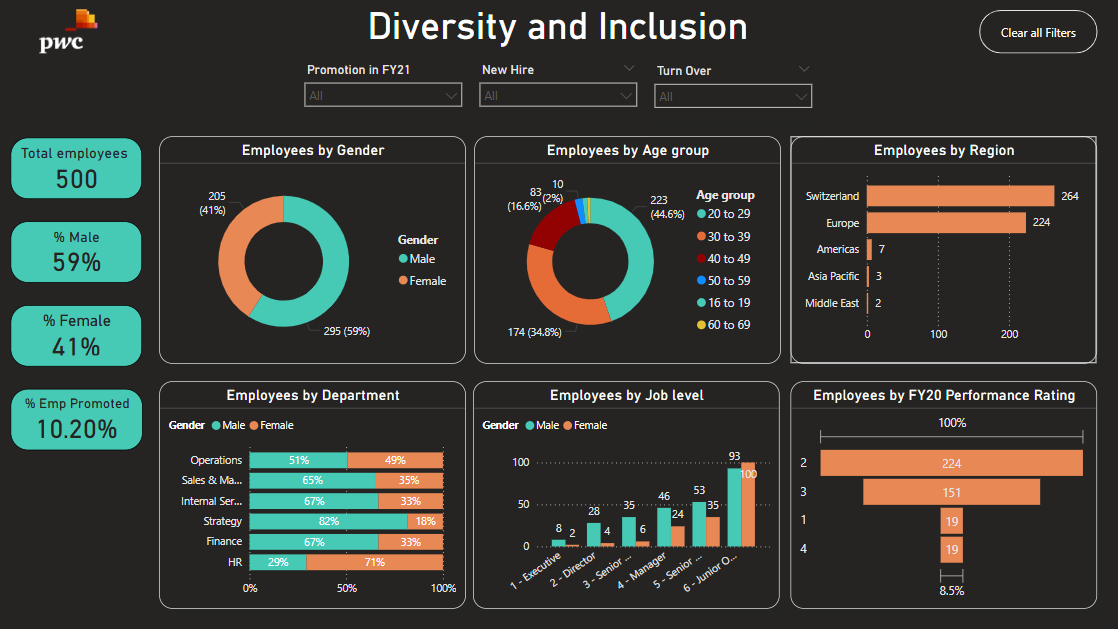

The page's visual inventory and layout, read from the dashboard file:
{"tool":"powerbi","page":{"name":"Promotion","canvas":[1280,720],"ordinal":0},"visuals":[{"type":"donutChart","title":"Employees by Gender","fields":{"Category":["Pharma Group AG.Gender"],"Y":["CountNonNull(Pharma Group AG.Employee ID)"]},"box":[184,155.2,350,260],"z":0},{"type":"card","title":"Total employees","fields":{"Values":["Pharma Group AG.Total employees"]},"box":[13.8,156.4,150.1,70.2],"z":1000,"group":"g2"},{"type":"textbox","box":[0,0,1280,67.6],"z":2000},{"type":"card","title":"% Male","fields":{"Values":["Pharma Group AG.% Male"]},"box":[13.8,252.4,150,70],"z":3000,"group":"g2"},{"type":"card","title":"% Female","fields":{"Values":["Pharma Group AG.% Female"]},"box":[13.8,348.2,150,70],"z":4000,"group":"g2"},{"type":"clusteredBarChart","title":"Employees by Region","fields":{"Category":["Pharma Group AG.Region group: nationality 1"],"Y":["CountNonNull(Pharma Group AG.Employee ID)"]},"box":[905.7,155.7,350,260],"z":5000},{"type":"hundredPercentStackedBarChart","title":"Employees by Department","fields":{"Category":["Pharma Group AG.Last Department in FY20"],"Y":["CountNonNull(Pharma Group AG.Employee ID)"],"Series":["Pharma Group AG.Gender"]},"box":[184,435.4,350,260],"z":6000},{"type":"clusteredColumnChart","title":" Employees by Job level","fields":{"Y":["CountNonNull(Pharma Group AG.Employee ID)"],"Category":["Pharma Group AG.Job Level before FY20 promotions"],"Series":["Pharma Group AG.Gender"]},"box":[543,435.7,350,260],"z":7000},{"type":"donutChart","title":"Employees by Age group","fields":{"Category":["Pharma Group AG.Age group"],"Y":["CountNonNull(Pharma Group AG.Employee ID)"]},"box":[544,155.2,350,260],"z":8000},{"type":"funnel","title":" Employees by FY20 Performance Rating","fields":{"Category":["Pharma Group AG.FY20 Performance Rating"],"Y":["CountNonNull(Pharma Group AG.Employee ID)"]},"box":[905.7,435.7,350,260],"z":9000},{"type":"actionButton","box":[1120.8,12.1,135.1,49.5],"z":10000},{"type":"slicer","fields":{"Values":["Pharma Group AG.New hire FY20?"]},"box":[539.9,65.1,200.3,70],"z":10000,"group":"g1"},{"type":"image","box":[0,5,160,60.3],"z":11000},{"type":"slicer","fields":{"Values":["Pharma Group AG.FY20 leaver?"]},"box":[740.1,66.3,200.3,70],"z":11000,"group":"g1"},{"type":"group","id":"g1","title":"Group 1","box":[339.6,65.1,600.8,71.2],"z":12000},{"type":"slicer","fields":{"Values":["Pharma Group AG.Promotion in FY21?"]},"box":[339.6,65.1,200.3,63.9],"z":12000,"group":"g1"},{"type":"card","title":"% Emp Promoted","fields":{"Values":["Pharma Group AG.Percentage of Employees Promoted FY21"]},"box":[13.8,443.9,150.8,70],"z":13000,"group":"g2"},{"type":"group","id":"g2","title":"Group 2","box":[13.8,156.4,150.8,357.5],"z":13001}]}

Visuals, with their boxes in screenshot pixels (x1, y1, x2, y2), scaled from the page's 1280x720 canvas onto the 1118x629 screenshot:
"Employees by Gender" donutChart: locate(161, 136, 466, 363)
"Total employees" card: locate(12, 137, 143, 198)
textbox: locate(0, 0, 1117, 59)
"% Male" card: locate(12, 220, 143, 282)
"% Female" card: locate(12, 304, 143, 365)
"Employees by Region" clusteredBarChart: locate(791, 136, 1097, 363)
"Employees by Department" hundredPercentStackedBarChart: locate(161, 380, 466, 608)
" Employees by Job level" clusteredColumnChart: locate(474, 381, 780, 608)
"Employees by Age group" donutChart: locate(475, 136, 781, 363)
" Employees by FY20 Performance Rating" funnel: locate(791, 381, 1097, 608)
actionButton: locate(979, 11, 1097, 54)
slicer - Pharma Group AG.New hire FY20?: locate(472, 57, 647, 118)
image: locate(0, 4, 140, 57)
slicer - Pharma Group AG.FY20 leaver?: locate(646, 58, 821, 119)
"Group 1" group: locate(297, 57, 821, 119)
slicer - Pharma Group AG.Promotion in FY21?: locate(297, 57, 472, 113)
"% Emp Promoted" card: locate(12, 388, 144, 449)
"Group 2" group: locate(12, 137, 144, 449)
